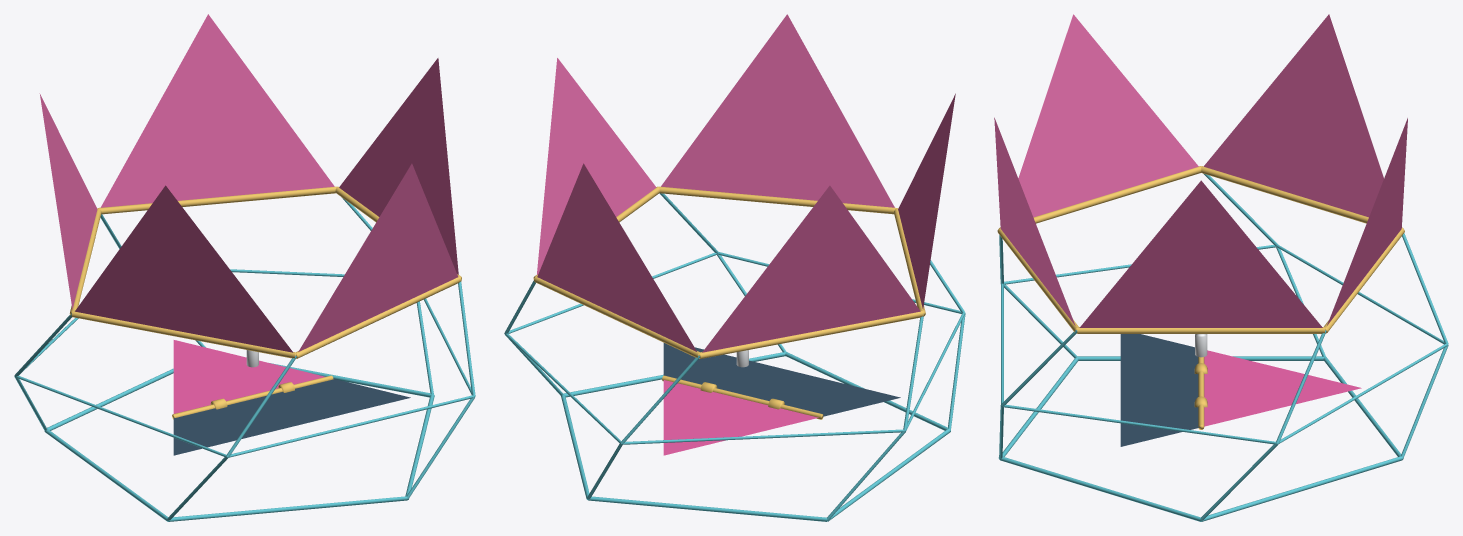
File: NEXAH_The_One_D1_D2_Test_01.glb
The picture shows the model from 3 angles, left to right: view 1: azimuth 30°, elevation 25°; view 2: azimuth 150°, elevation 25°; view 3: azimuth 270°, elevation 25°; orthographic projection.
Visible parts, largest first — view 1: Fixed crown reference 5, Fixed crown reference 2, Fixed crown reference 3, Fixed crown reference 4, Fixed lower shadow panel, THE ONE rotating upper triangle, Fixed crown reference 1, Crown hinge 4, Crown hinge 1, Lower frame A2, Crown hinge 2, Middle reference M2 (+6 smaller); view 2: Fixed crown reference 3, Fixed crown reference 1, Fixed crown reference 5, Fixed crown reference 4, Fixed lower shadow panel, THE ONE rotating upper triangle, Fixed crown reference 2, Crown hinge 2, Crown hinge 0, Lower frame A0, Crown hinge 4, Middle reference M0 (+6 smaller); view 3: Fixed crown reference 2, Fixed crown reference 1, Fixed crown reference 4, Fixed lower shadow panel, THE ONE rotating upper triangle, Fixed crown reference 3, Fixed crown reference 5, Crown hinge 3, Crown hinge 1, Crown hinge 0, Lower frame A3, Lower frame A4 (+8 smaller).
Boxes of the visible parts, x1=… form: Fixed crown reference 5: x1=101, y1=14, x2=334, y2=207; Fixed crown reference 2: x1=75, y1=185, x2=293, y2=352; Fixed crown reference 3: x1=298, y1=163, x2=457, y2=351; Fixed crown reference 4: x1=339, y1=58, x2=458, y2=274; Fixed lower shadow panel: x1=173, y1=378, x2=410, y2=455; THE ONE rotating upper triangle: x1=173, y1=340, x2=325, y2=413; Fixed crown reference 1: x1=39, y1=93, x2=97, y2=309; Crown hinge 4: x1=98, y1=186, x2=336, y2=214; Crown hinge 1: x1=71, y1=310, x2=295, y2=358; Lower frame A2: x1=168, y1=496, x2=407, y2=521; Crown hinge 2: x1=296, y1=276, x2=461, y2=358; Middle reference M2: x1=228, y1=395, x2=474, y2=457; Fixed crown reference 3: x1=661, y1=14, x2=894, y2=207; Fixed crown reference 1: x1=702, y1=185, x2=920, y2=352; Fixed crown reference 5: x1=537, y1=163, x2=696, y2=351; Fixed crown reference 4: x1=537, y1=58, x2=656, y2=274; Fixed lower shadow panel: x1=663, y1=343, x2=900, y2=416; THE ONE rotating upper triangle: x1=663, y1=380, x2=818, y2=455; Fixed crown reference 2: x1=898, y1=93, x2=955, y2=309; Crown hinge 2: x1=658, y1=186, x2=897, y2=214; Crown hinge 0: x1=699, y1=310, x2=923, y2=358; Lower frame A0: x1=588, y1=496, x2=827, y2=521; Crown hinge 4: x1=534, y1=276, x2=699, y2=358; Middle reference M0: x1=622, y1=429, x2=904, y2=444; Fixed crown reference 2: x1=1018, y1=14, x2=1198, y2=217; Fixed crown reference 1: x1=1204, y1=14, x2=1383, y2=217; Fixed crown reference 4: x1=1079, y1=180, x2=1322, y2=327; Fixed lower shadow panel: x1=1120, y1=334, x2=1200, y2=446; THE ONE rotating upper triangle: x1=1204, y1=350, x2=1361, y2=426; Fixed crown reference 3: x1=994, y1=117, x2=1075, y2=325; Fixed crown reference 5: x1=1327, y1=118, x2=1407, y2=325; Crown hinge 3: x1=1077, y1=327, x2=1324, y2=333; Crown hinge 1: x1=999, y1=166, x2=1201, y2=228; Crown hinge 0: x1=1201, y1=166, x2=1403, y2=228; Lower frame A3: x1=999, y1=456, x2=1201, y2=521; Lower frame A4: x1=1201, y1=456, x2=1402, y2=521.
Size of the model in its own units: 0.1901 by 0.1534 by 0.1834.
